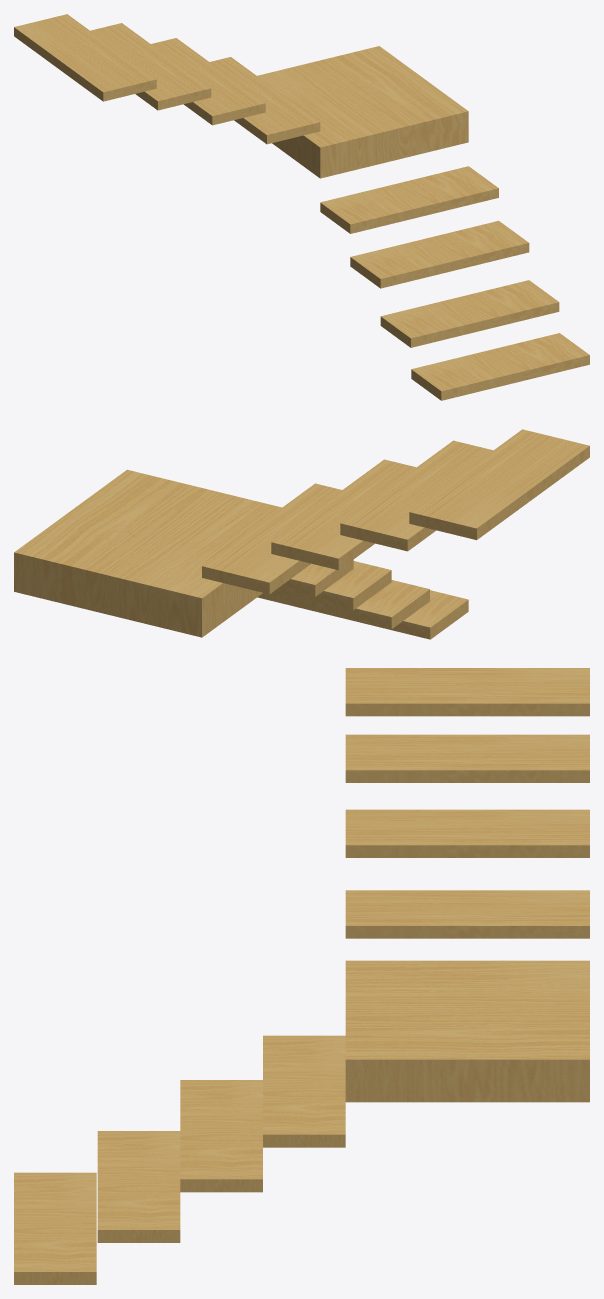
Rendered from escaleras.obj.
The picture shows the model from 3 angles, top to bottom: view 1: azimuth 30°, elevation 25°; view 2: azimuth 150°, elevation 25°; view 3: azimuth 270°, elevation 25°; orthographic projection. The views are drawn at different scales.
Parts seen in each view (by area): view 1: escaleras:pCube30; view 2: escaleras:pCube30; view 3: escaleras:pCube30.
Boxes of the visible parts, x1,y1,x2,y2 form: escaleras:pCube30: [14, 14, 589, 400]; escaleras:pCube30: [14, 429, 589, 639]; escaleras:pCube30: [14, 668, 589, 1284].
Bounding box in the file's own units: 3.25 × 2.31 × 3.24.
Materials: 1 (1 with a texture image).
